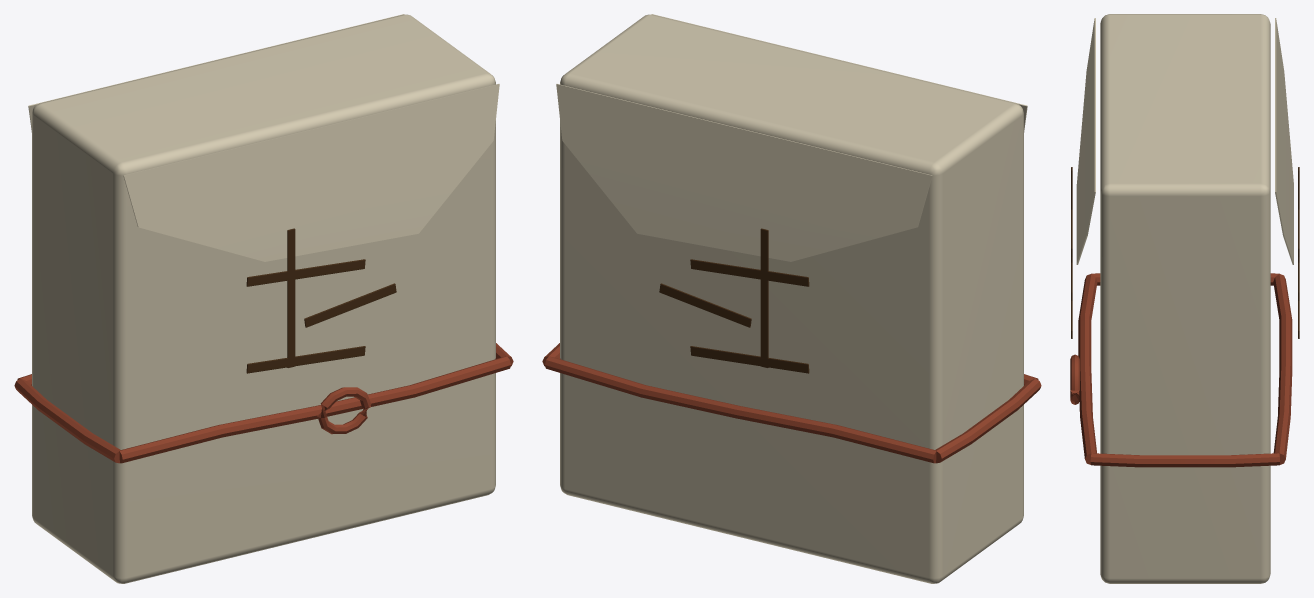
The model's file is memory-seal-lod0.fbx.
3 views of the same model, side by side, from view 1: azimuth 30°, elevation 25°; view 2: azimuth 150°, elevation 25°; view 3: azimuth 270°, elevation 25° (orthographic). The views are drawn at different scales.
Parts seen in each view (by area): view 1: Soft folded paper packet, Layered folded envelope flap.001, Cord across seal face.001, Continuous packet edge binding, Hand tied cord loop, Stamped raised ink stroke.003, Stamped vertical ink stroke.001, Stamped raised ink stroke.005, Stamped raised ink stroke.004; view 2: Soft folded paper packet, Layered folded envelope flap, Cord across seal face, Continuous packet edge binding, Stamped raised ink stroke, Stamped raised ink stroke.002, Stamped vertical ink stroke, Stamped raised ink stroke.001; view 3: Soft folded paper packet, Layered folded envelope flap.001, Layered folded envelope flap, Cord across seal face, Cord across seal face.001, Continuous packet edge binding.001, Hand tied cord loop.
Boxes of the visible parts, left/top/right/bottom form: Soft folded paper packet: left=32, top=14, right=495, bottom=583; Layered folded envelope flap.001: left=123, top=84, right=499, bottom=261; Cord across seal face.001: left=119, top=356, right=510, bottom=463; Continuous packet edge binding: left=14, top=378, right=120, bottom=463; Hand tied cord loop: left=317, top=387, right=371, bottom=434; Stamped raised ink stroke.003: left=246, top=259, right=365, bottom=286; Stamped vertical ink stroke.001: left=287, top=228, right=295, bottom=367; Stamped raised ink stroke.005: left=246, top=346, right=365, bottom=373; Stamped raised ink stroke.004: left=304, top=283, right=396, bottom=327; Soft folded paper packet: left=560, top=14, right=1023, bottom=583; Layered folded envelope flap: left=556, top=84, right=932, bottom=261; Cord across seal face: left=545, top=356, right=936, bottom=463; Continuous packet edge binding: left=935, top=378, right=1041, bottom=463; Stamped raised ink stroke: left=690, top=259, right=809, bottom=286; Stamped raised ink stroke.002: left=690, top=346, right=809, bottom=373; Stamped vertical ink stroke: left=760, top=228, right=768, bottom=367; Stamped raised ink stroke.001: left=659, top=283, right=751, bottom=327; Soft folded paper packet: left=1100, top=14, right=1270, bottom=583; Layered folded envelope flap.001: left=1076, top=18, right=1095, bottom=264; Layered folded envelope flap: left=1275, top=18, right=1293, bottom=264; Cord across seal face: left=1273, top=274, right=1292, bottom=464; Cord across seal face.001: left=1078, top=274, right=1097, bottom=464; Continuous packet edge binding.001: left=1090, top=453, right=1279, bottom=467; Hand tied cord loop: left=1070, top=354, right=1079, bottom=404.
Bounding box in the file's own units: 27.6 × 27.2 × 14.15.
